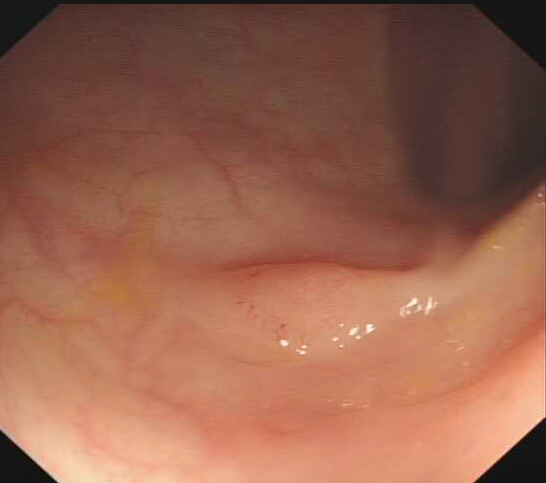adenoma: (181, 257, 391, 369)
